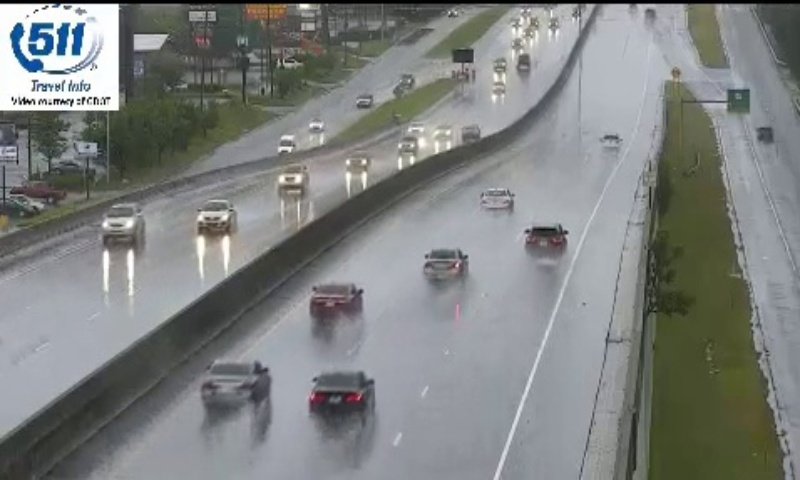car: (200, 360, 271, 405), (309, 370, 376, 414), (310, 283, 361, 317), (423, 247, 468, 281), (525, 224, 567, 257), (480, 188, 513, 210)
